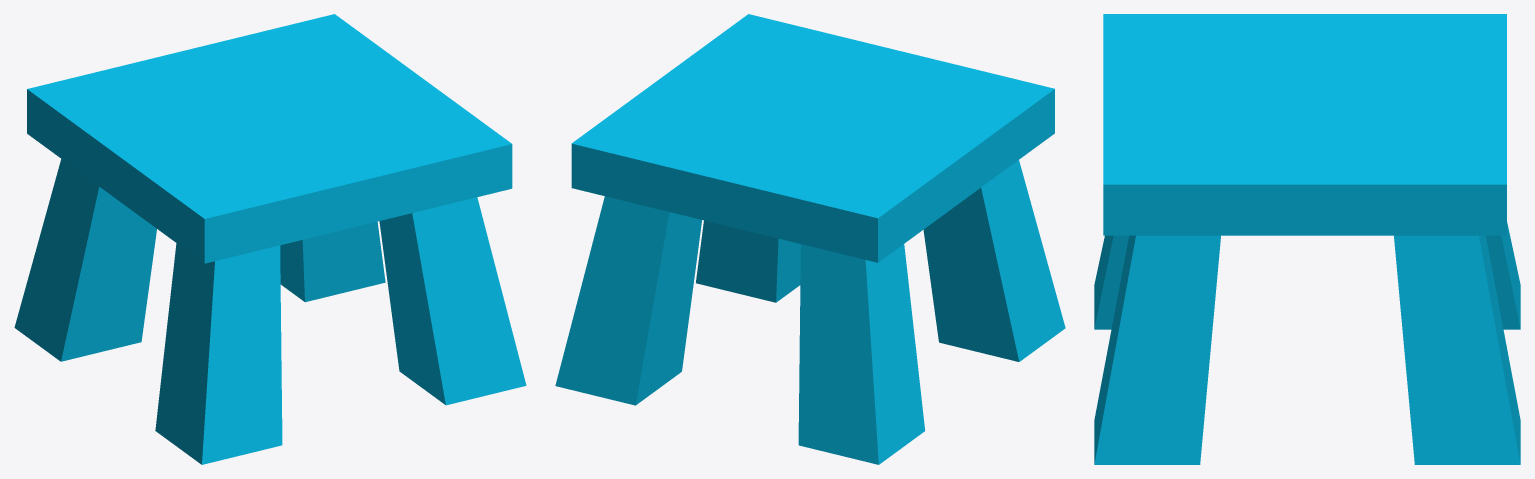
Rendered from Chair1.fbx.
3 views of the same model, side by side, from view 1: azimuth 30°, elevation 25°; view 2: azimuth 150°, elevation 25°; view 3: azimuth 270°, elevation 25° (orthographic). The views are drawn at different scales.
Parts seen in each view (by area): view 1: Chair1; view 2: Chair1; view 3: Chair1.
Boxes of the visible parts, x1=… form: Chair1: x1=14, y1=14, x2=526, y2=464; Chair1: x1=555, y1=14, x2=1065, y2=464; Chair1: x1=1094, y1=14, x2=1520, y2=464.
Bounding box in the file's own units: 106 × 75 × 106.
